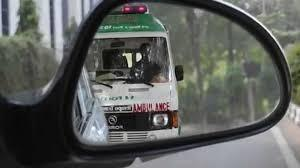AMBULANCE: (87, 1, 187, 142)
